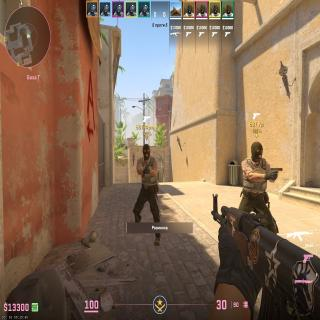T-Body: (241, 141, 270, 232), (136, 144, 159, 223)
T-Head: (251, 141, 263, 160), (143, 143, 150, 159)
